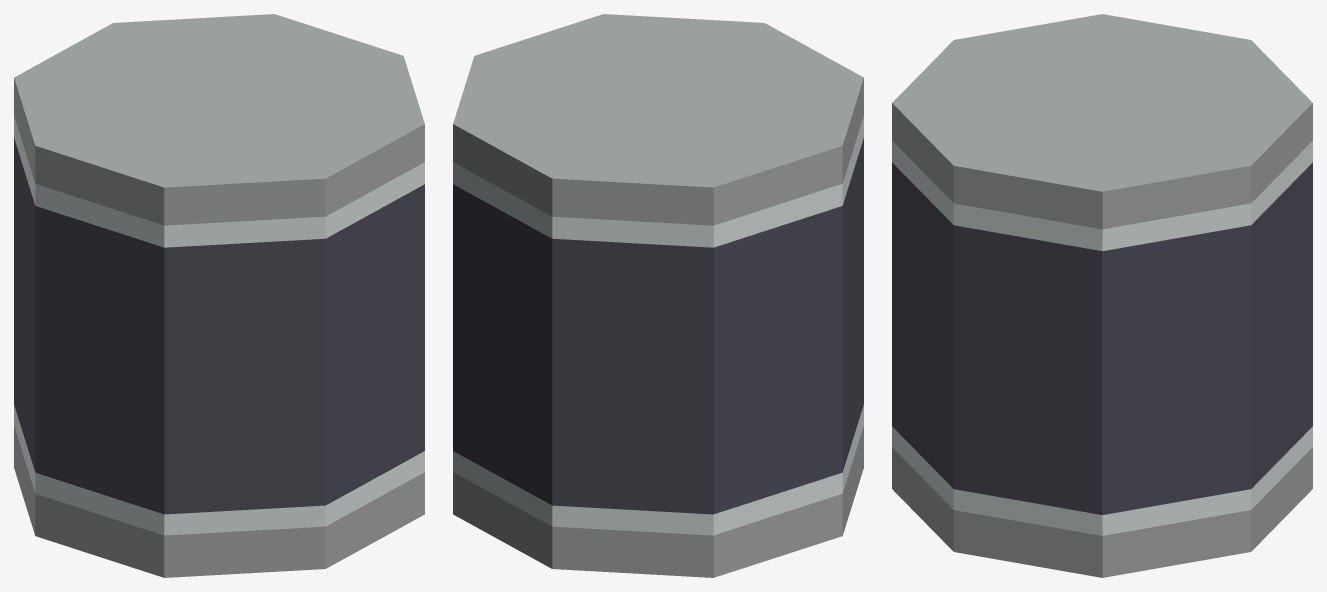
File: can4.fbx
The picture shows the model from 3 angles, left to right: view 1: azimuth 30°, elevation 25°; view 2: azimuth 150°, elevation 25°; view 3: azimuth 270°, elevation 25°; orthographic projection.
Visible parts, largest first — view 1: can3; view 2: can3; view 3: can3.
Boxes of the visible parts, x1,y1,x2,y2 form: can3: (14, 14, 424, 577); can3: (453, 14, 863, 577); can3: (892, 14, 1312, 577).
Size of the model in its own units: 0.7012 by 0.7102 by 0.7012.
Materials: 1 (1 with a texture image).
